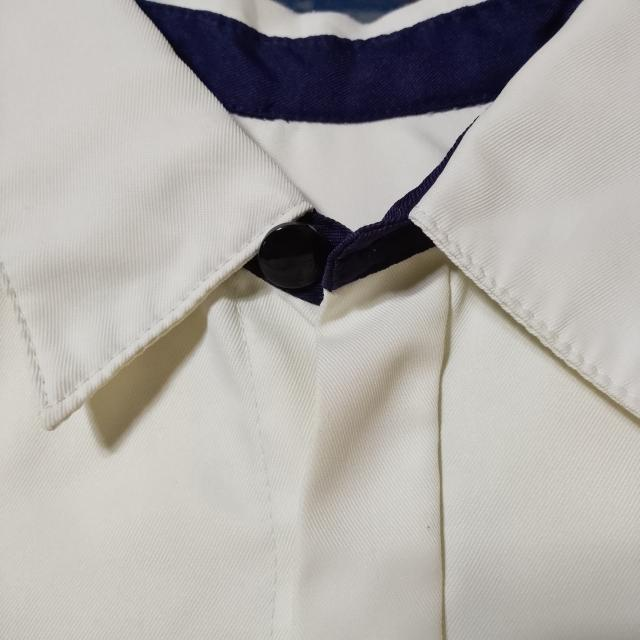education_male_uniform: (0, 0, 640, 551), (0, 0, 442, 604)
